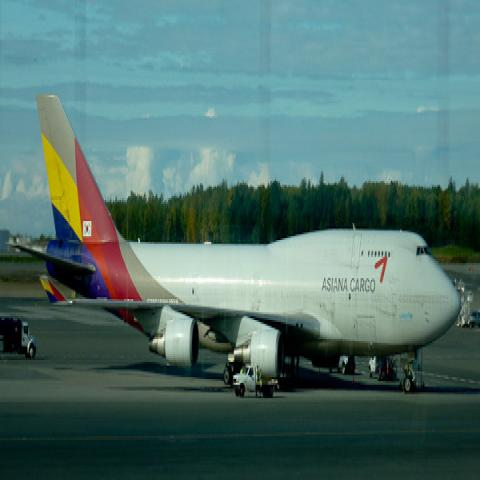truck: (233, 365, 278, 397), (2, 319, 37, 360), (369, 355, 376, 378), (338, 356, 348, 372)
